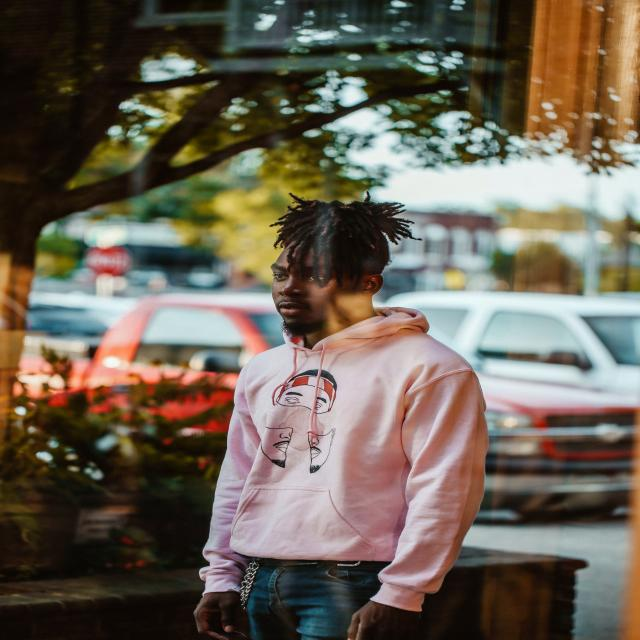adult: (186, 201, 482, 640)
